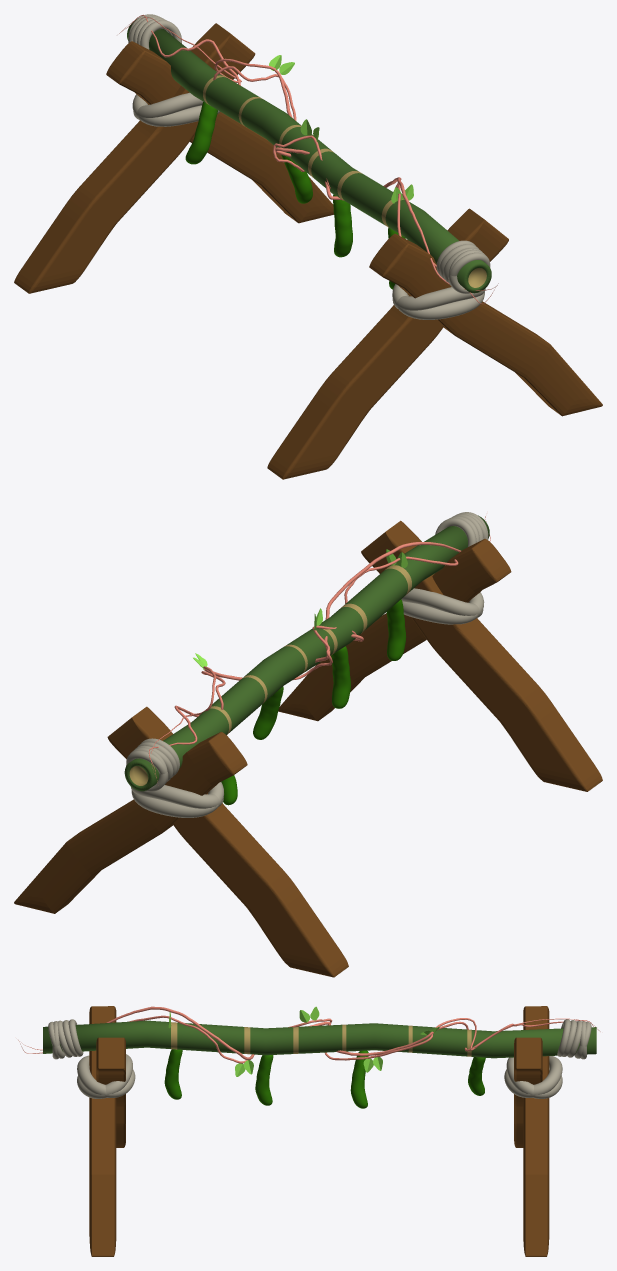
Rendered from KebunTimun.fbx.
The picture shows the model from 3 angles, top to bottom: view 1: azimuth 30°, elevation 25°; view 2: azimuth 150°, elevation 25°; view 3: azimuth 270°, elevation 25°; orthographic projection. The views are drawn at different scales.
Parts seen in each view (by area): view 1: Cube.002; view 2: Cube.002; view 3: Cube.002.
Part boxes in pixels (box(x1,y1,x2,y2)): Cube.002: box(14, 14, 602, 479); Cube.002: box(14, 512, 602, 977); Cube.002: box(18, 1006, 600, 1256).
Size of the model in its own units: 356 by 244 by 697.
